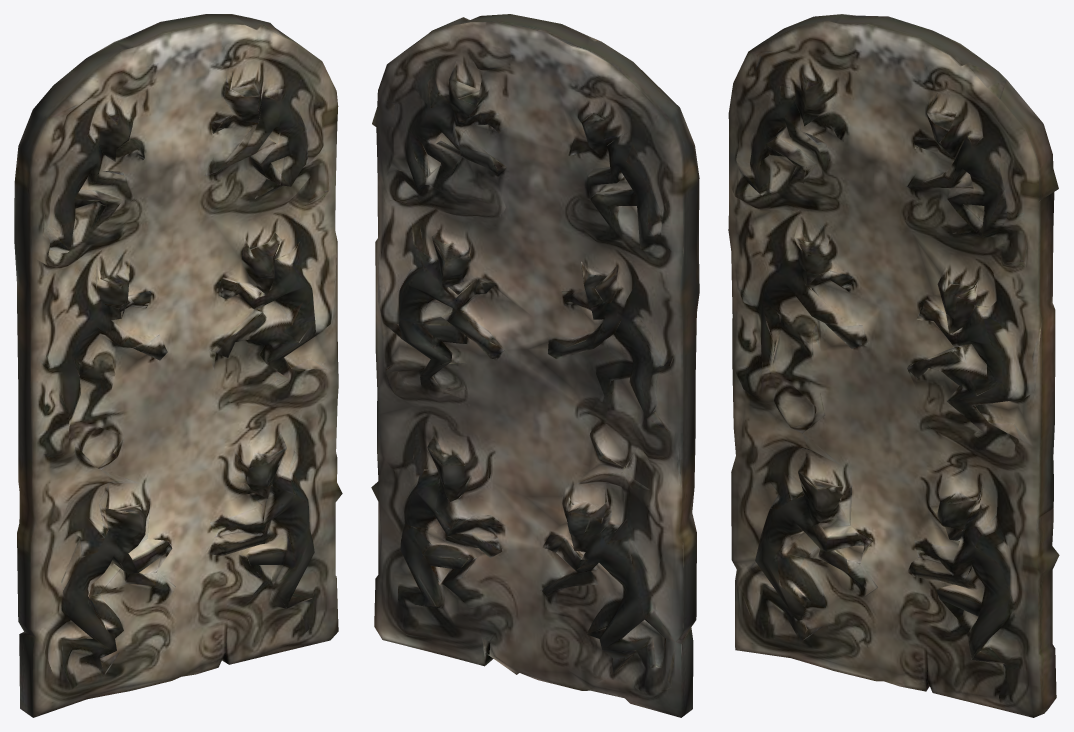
File: Stone Door Carved_final.glb
3 views of the same model, side by side, from view 1: azimuth 30°, elevation 25°; view 2: azimuth 150°, elevation 25°; view 3: azimuth 330°, elevation 25° (orthographic).
Parts seen in each view (by area): view 1: Mesh_0.001; view 2: Mesh_0.001; view 3: Mesh_0.001.
Boxes of the visible parts, left/top/right/bottom form: Mesh_0.001: left=14, top=14, right=342, bottom=717; Mesh_0.001: left=371, top=14, right=699, bottom=717; Mesh_0.001: left=728, top=14, right=1059, bottom=717.
Size of the model in its own units: 1.5 by 3 by 0.3444.
1 material, 1 textured.
